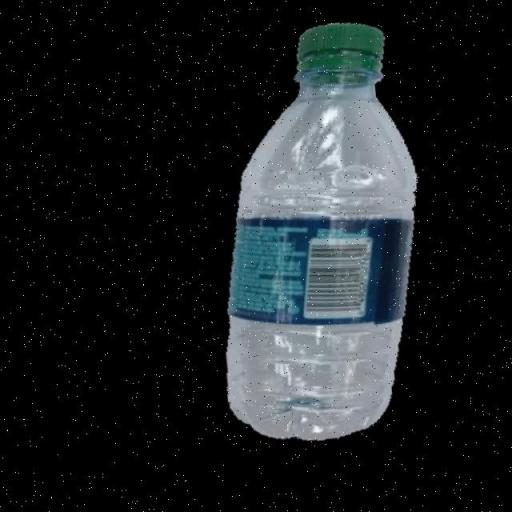plastic: (190, 15, 444, 450)
